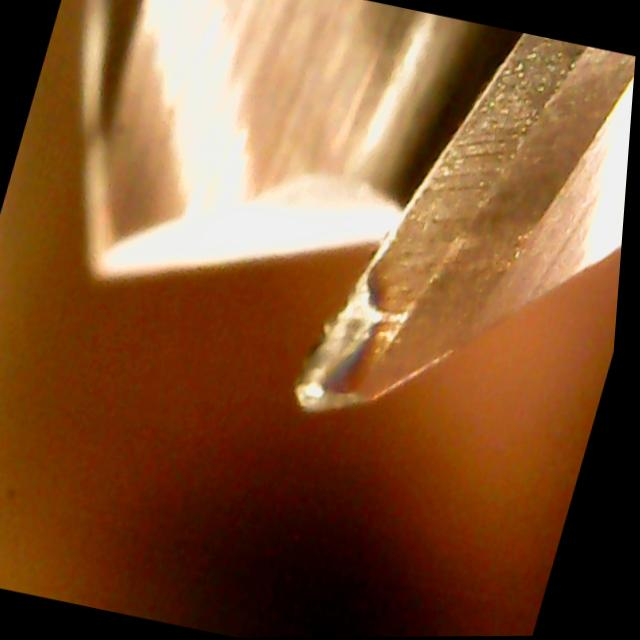Tool-wear-class-1: (284, 89, 552, 455)
